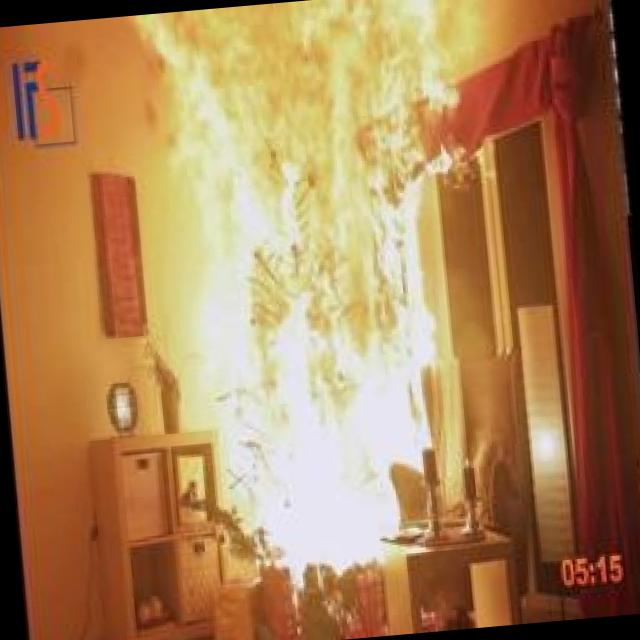fire: (106, 0, 510, 595)
